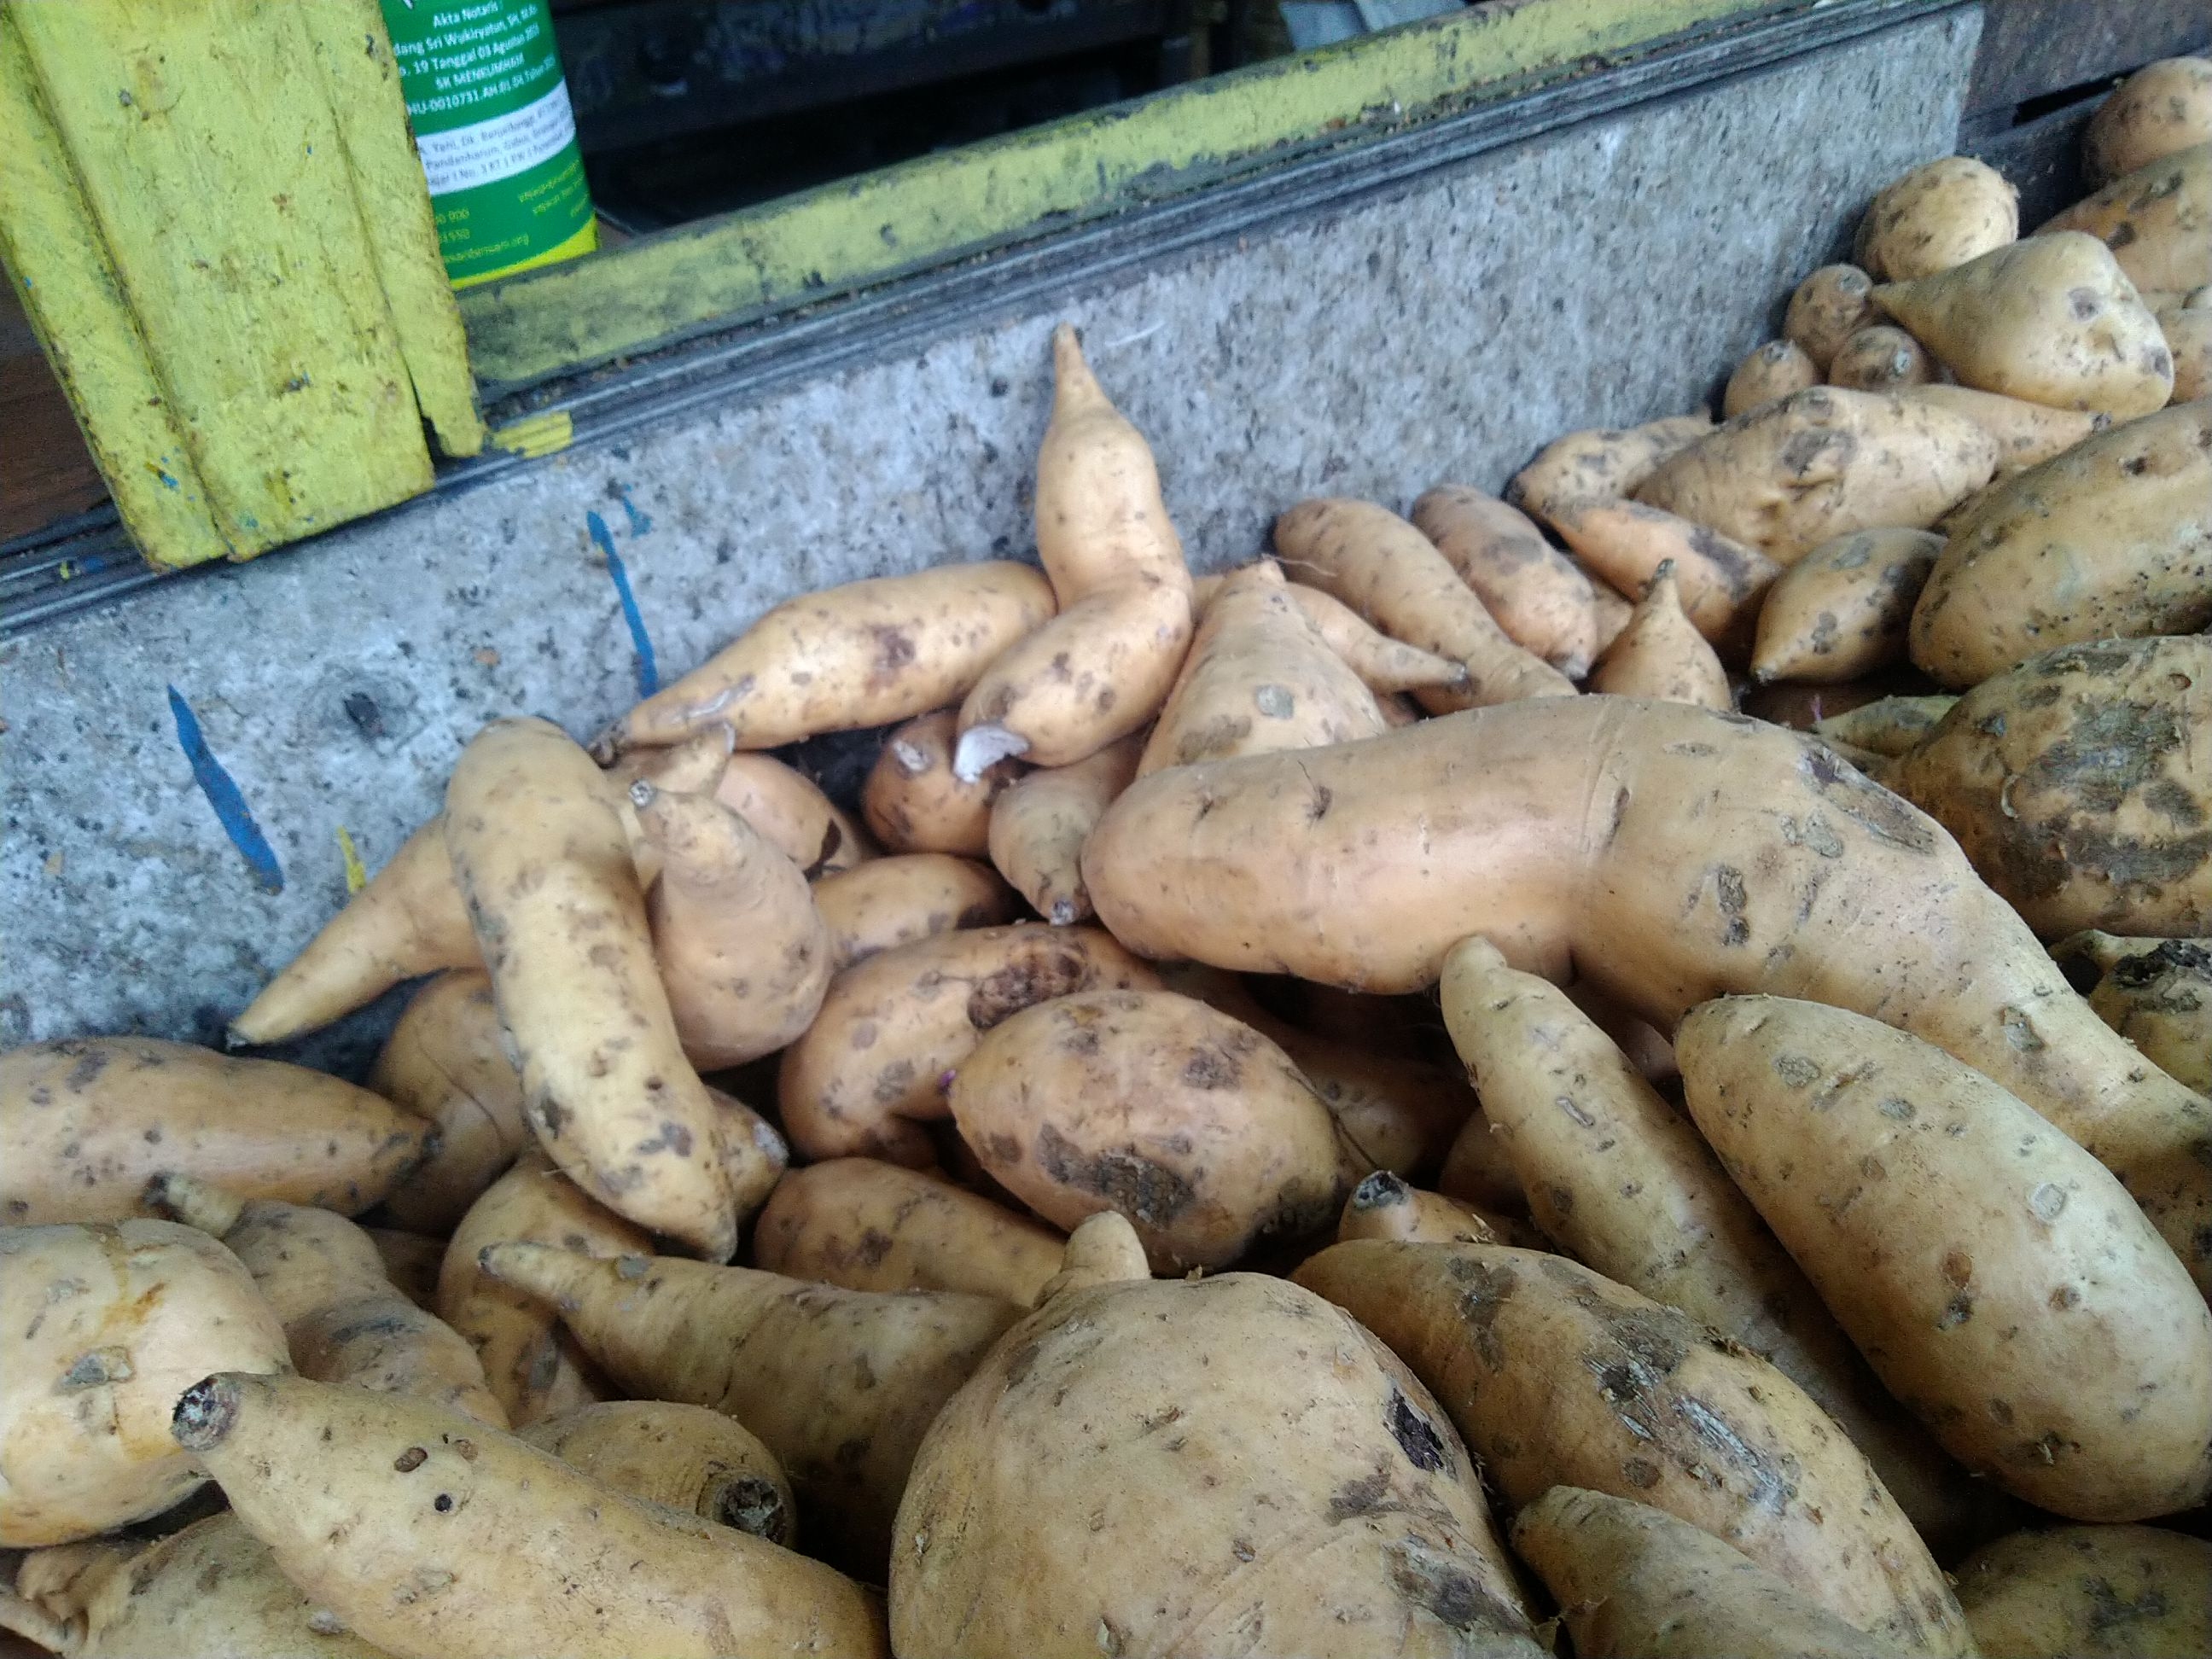ubi cilembu: (2, 1002, 1994, 1659), (240, 453, 2212, 1030), (1082, 688, 2212, 1187), (1665, 983, 2212, 1507), (165, 1351, 869, 1659), (1756, 51, 2209, 488), (423, 716, 792, 1249), (458, 1208, 1024, 1467), (949, 321, 1202, 793), (622, 545, 1111, 765), (1271, 472, 1632, 714), (0, 1039, 448, 1218), (1843, 216, 2195, 403), (1620, 378, 2012, 542), (1738, 509, 1994, 690)
